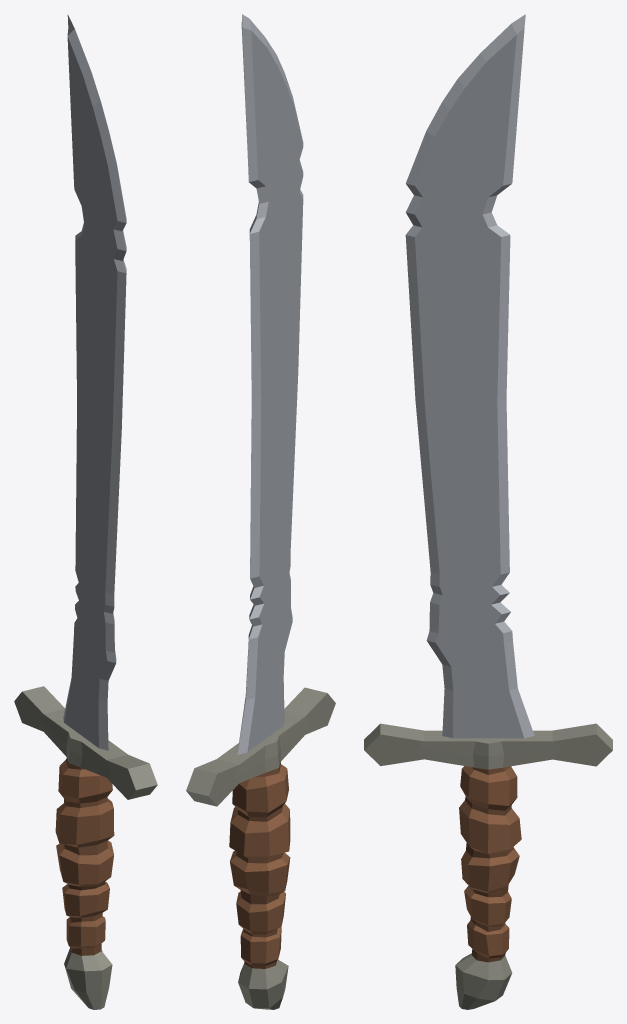
File: falchion.glb
The picture shows the model from 3 angles, left to right: view 1: azimuth 30°, elevation 25°; view 2: azimuth 150°, elevation 25°; view 3: azimuth 270°, elevation 25°; orthographic projection. The views are drawn at different scales.
Parts seen in each view (by area): view 1: falchion; view 2: falchion; view 3: falchion.
Part boxes in pixels (x1,y1,x2,y2): falchion: (14, 14, 157, 1009); falchion: (186, 14, 335, 1009); falchion: (364, 14, 612, 1009).
Size of the model in its own units: 0.0492 by 0.85 by 0.1931.
